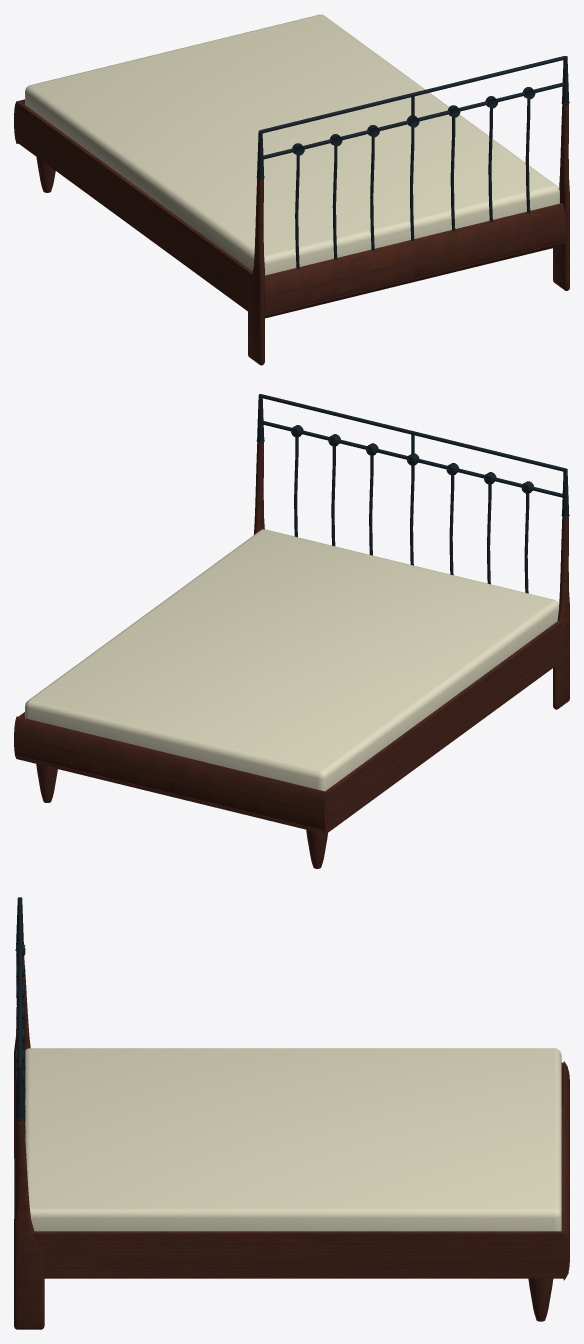
The model's file is bed1.obj.
3 renders of one model, top to bottom at view 1: azimuth 30°, elevation 25°; view 2: azimuth 150°, elevation 25°; view 3: azimuth 270°, elevation 25°, orthographic. The views are drawn at different scales.
Visible parts, largest first — view 1: mattress, body, metal; view 2: mattress, body, metal; view 3: mattress, body, metal.
Boxes of the visible parts, x1,y1,x2,y2 form: mattress: (25, 14, 559, 275); body: (14, 99, 569, 365); metal: (256, 56, 569, 269); mattress: (25, 529, 559, 791); body: (14, 442, 569, 868); metal: (256, 394, 569, 593); mattress: (25, 1048, 561, 1231); body: (14, 956, 569, 1329); metal: (15, 897, 25, 1137).
Size of the model in its own units: 161 by 115 by 220.
Materials: 3 (1 with a texture image).
